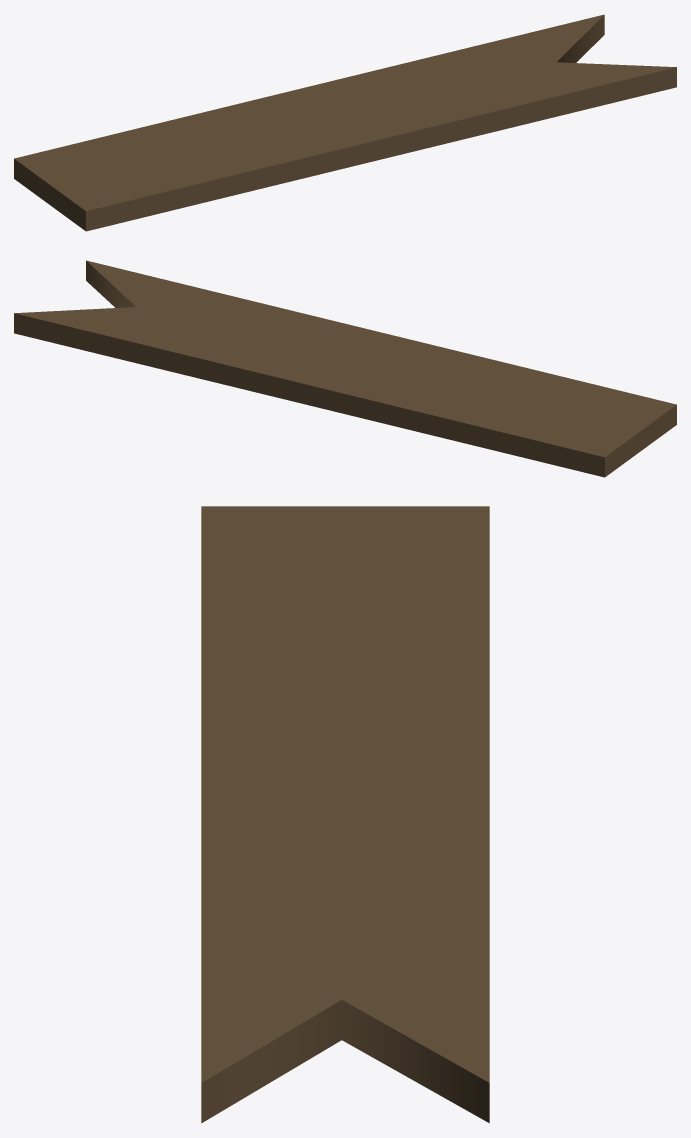
The model's file is Wood2.3.fbx.
3 renders of one model, top to bottom at view 1: azimuth 30°, elevation 25°; view 2: azimuth 150°, elevation 25°; view 3: azimuth 270°, elevation 25°, orthographic. The views are drawn at different scales.
Parts seen in each view (by area): view 1: polySurface36; view 2: polySurface36; view 3: polySurface36.
Boxes of the visible parts, <box> form: polySurface36: <box>14,14,676,231</box>; polySurface36: <box>14,260,676,477</box>; polySurface36: <box>201,506,489,1123</box>.
Bounding box in the file's own units: 8.89 × 0.2905 × 1.88.
